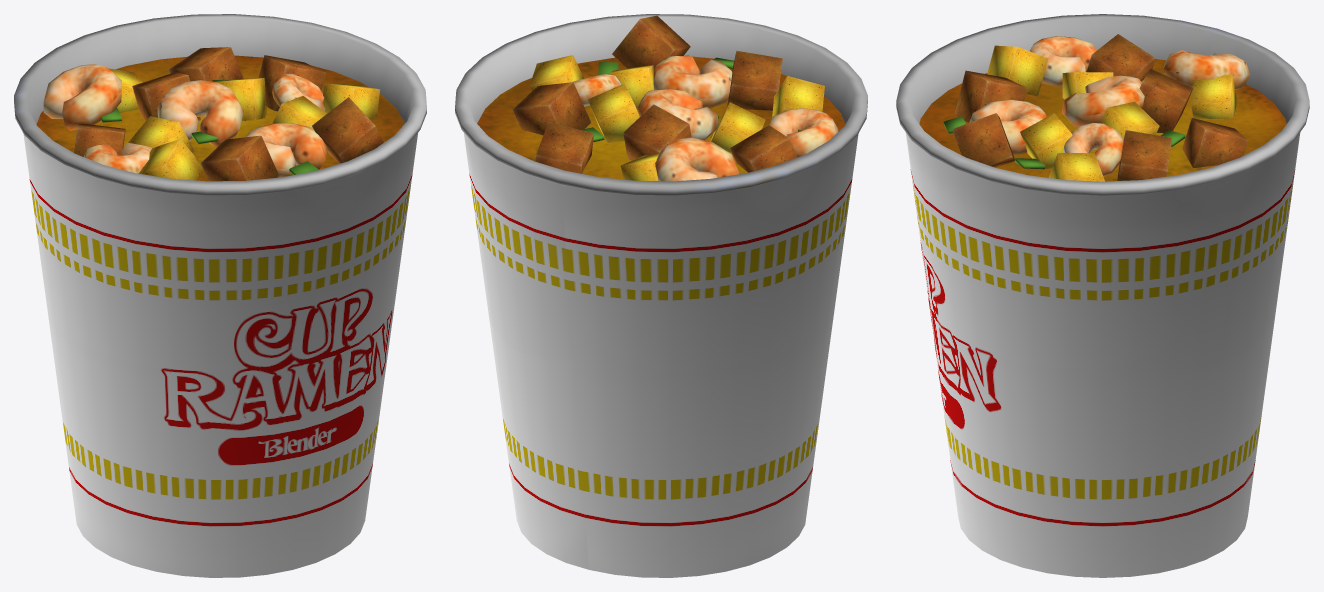
Rendered from cupramen.fbx.
3 renders of one model, left to right at view 1: azimuth 30°, elevation 25°; view 2: azimuth 150°, elevation 25°; view 3: azimuth 270°, elevation 25°, orthographic.
Visible parts, largest first — view 1: cupramen; view 2: cupramen; view 3: cupramen.
Part boxes in pixels (left/top/right/bottom): cupramen: left=14, top=14, right=426, bottom=577; cupramen: left=455, top=14, right=867, bottom=577; cupramen: left=896, top=14, right=1309, bottom=577.
Size of what is drawn, in the model's own units: 99.83 by 117 by 99.83.
Materials: 1 (1 with a texture image).
